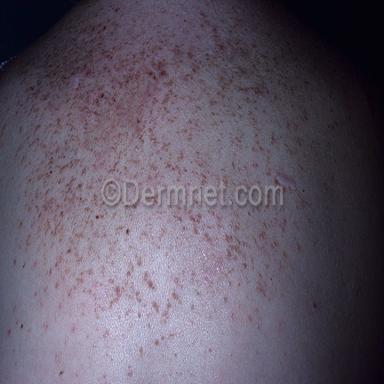Darier_s-Disease: (0, 3, 352, 360)
